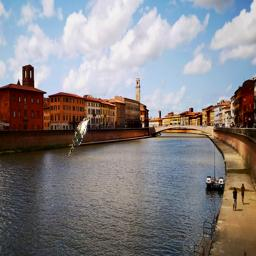Cuckoo: (68, 118, 91, 158)
